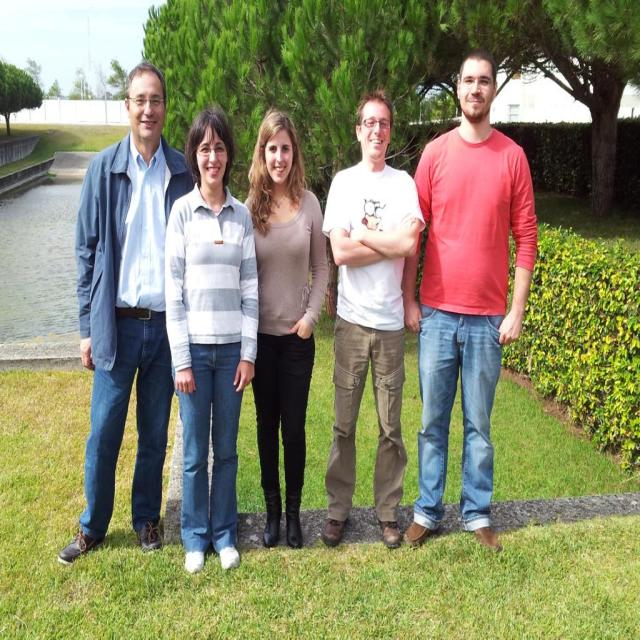Face: (129, 70, 169, 142), (458, 60, 501, 126), (196, 119, 232, 193), (265, 130, 307, 191), (358, 102, 396, 161)
